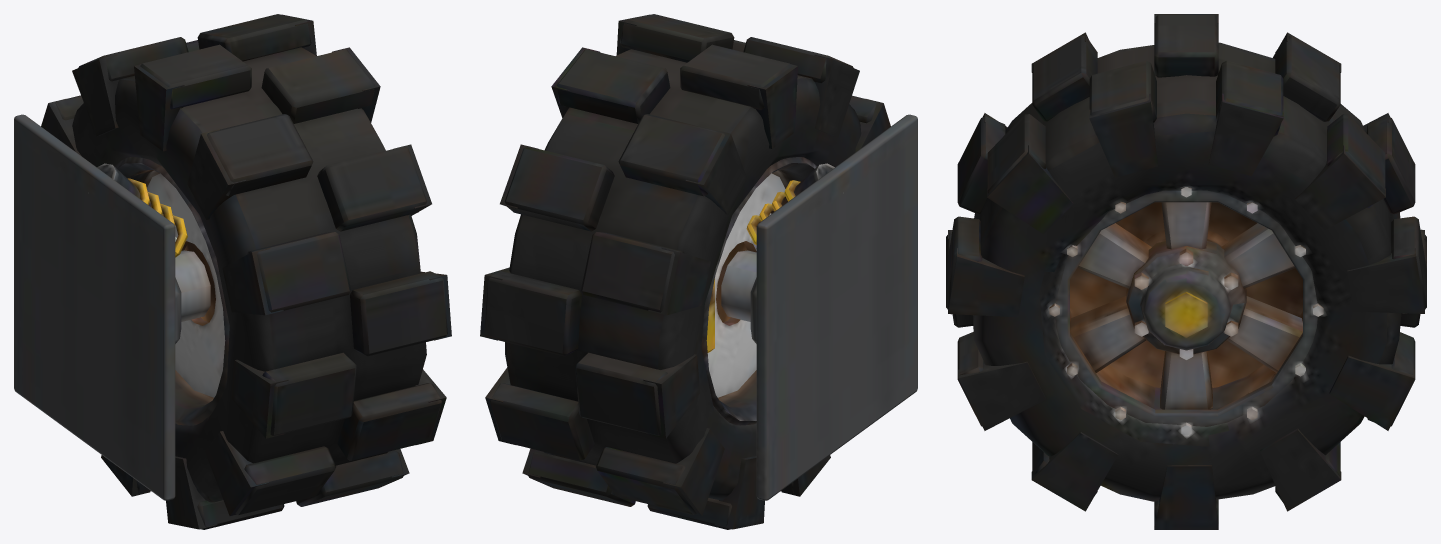
File: R4M_WheelM_Side_Offroad_LOD1.glb
3 renders of one model, left to right at view 1: azimuth 30°, elevation 25°; view 2: azimuth 150°, elevation 25°; view 3: azimuth 270°, elevation 25°, orthographic.
Parts seen in each view (by area): view 1: R4M_WheelM_Side_Offroad_LOD1; view 2: R4M_WheelM_Side_Offroad_LOD1; view 3: R4M_WheelM_Side_Offroad_LOD1.
Boxes of the visible parts, x1,y1,x2,y2 form: R4M_WheelM_Side_Offroad_LOD1: [14, 14, 451, 529]; R4M_WheelM_Side_Offroad_LOD1: [480, 14, 917, 529]; R4M_WheelM_Side_Offroad_LOD1: [946, 14, 1426, 529].
Bounding box in the file's own units: 0.4514 × 0.776 × 0.7812.
4 materials, 4 textured.
